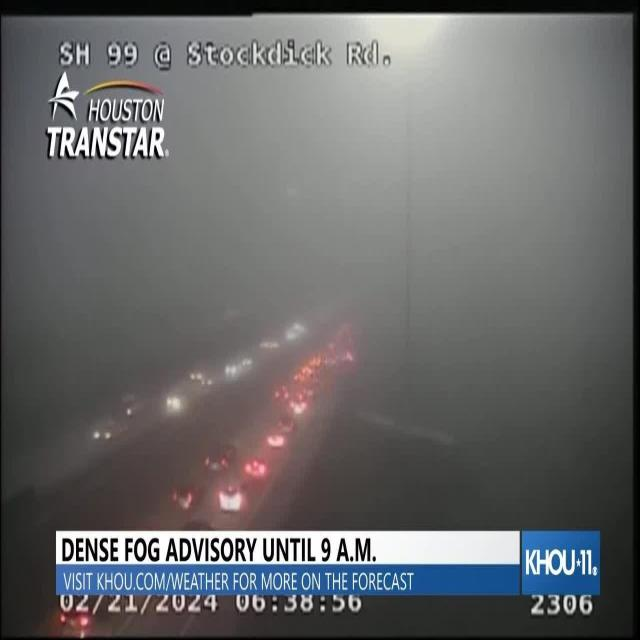Car: (204, 442, 236, 474), (59, 605, 93, 632), (171, 482, 200, 512), (218, 482, 244, 512), (242, 453, 270, 480), (92, 421, 115, 442), (290, 394, 308, 415), (165, 393, 183, 413), (267, 430, 286, 448), (188, 370, 207, 387), (274, 384, 290, 402), (225, 362, 238, 377)
